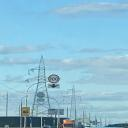speed_limit_100: (46, 73, 62, 83)
